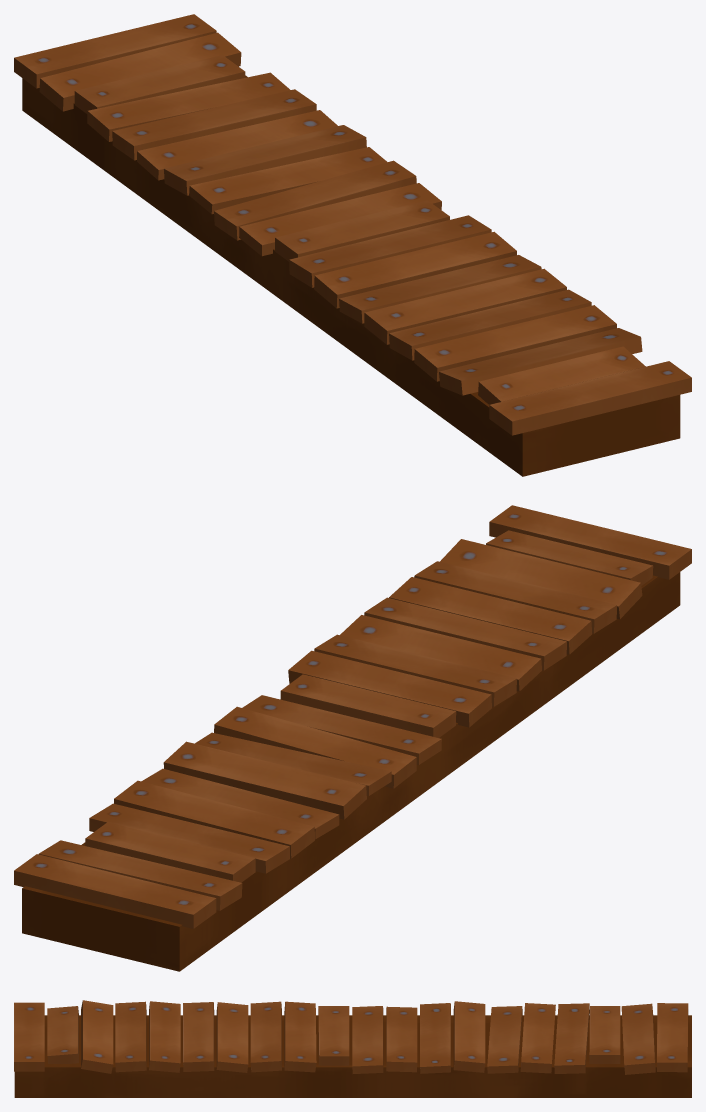
The model's file is DocksCenter2.fbx.
The picture shows the model from 3 angles, top to bottom: view 1: azimuth 30°, elevation 25°; view 2: azimuth 150°, elevation 25°; view 3: azimuth 270°, elevation 25°; orthographic projection. The views are drawn at different scales.
Visible parts, largest first — view 1: Dock.010; view 2: Dock.010; view 3: Dock.010.
Part boxes in pixels (box(x1,y1,x2,y2)): Dock.010: box(14, 14, 691, 476); Dock.010: box(14, 505, 691, 971); Dock.010: box(14, 1000, 691, 1097).
Bounding box in the file's own units: 230 × 75.3 × 1101.
